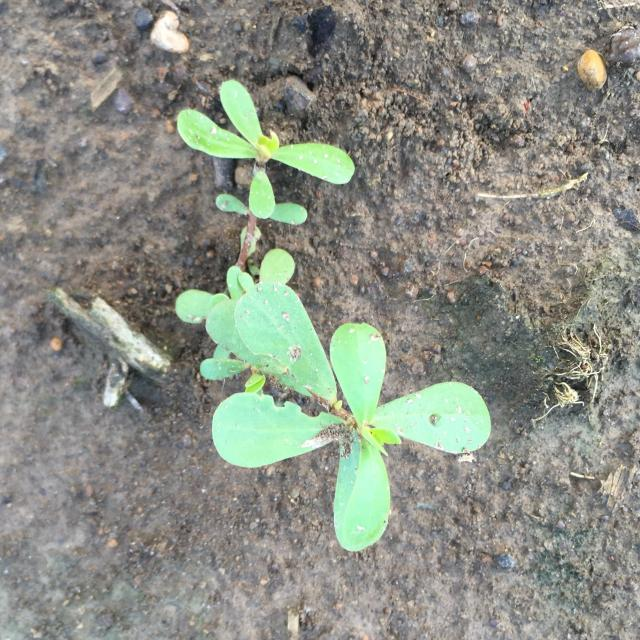Purslane: (176, 80, 492, 552)
